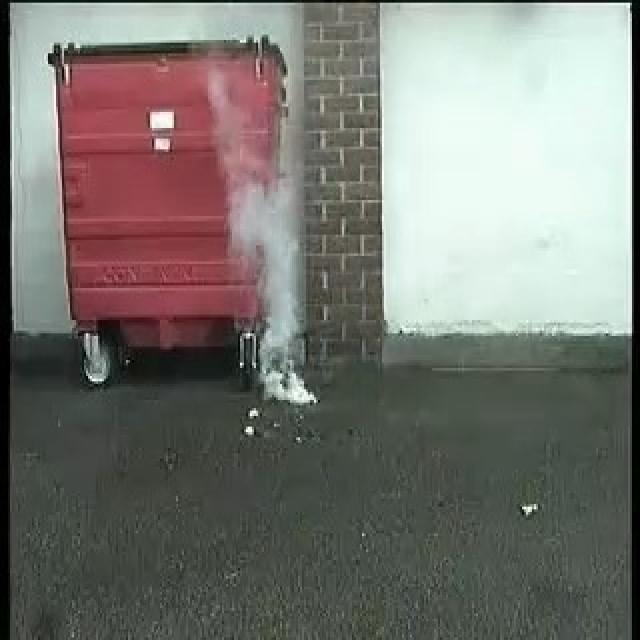smoke: (226, 149, 313, 409)
